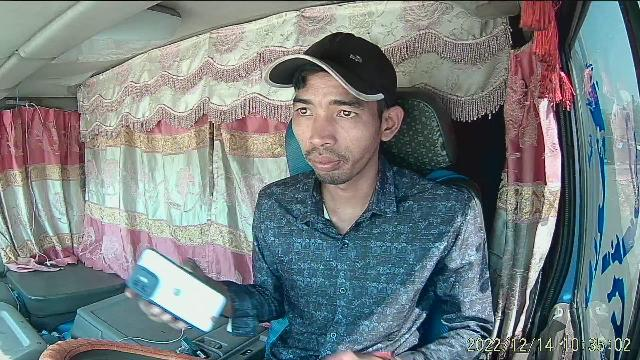PhoneUse: (124, 244, 228, 334)
SafeDriving: (331, 102, 362, 122), (290, 100, 318, 121)
